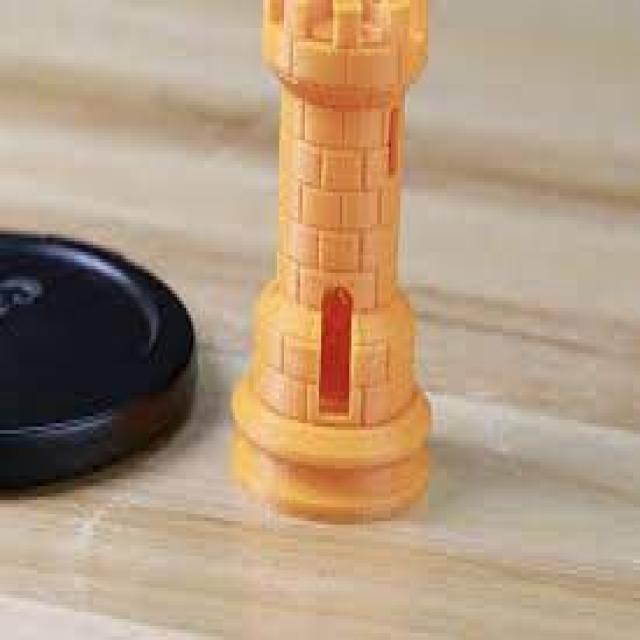Without deffect: (232, 1, 454, 540)
